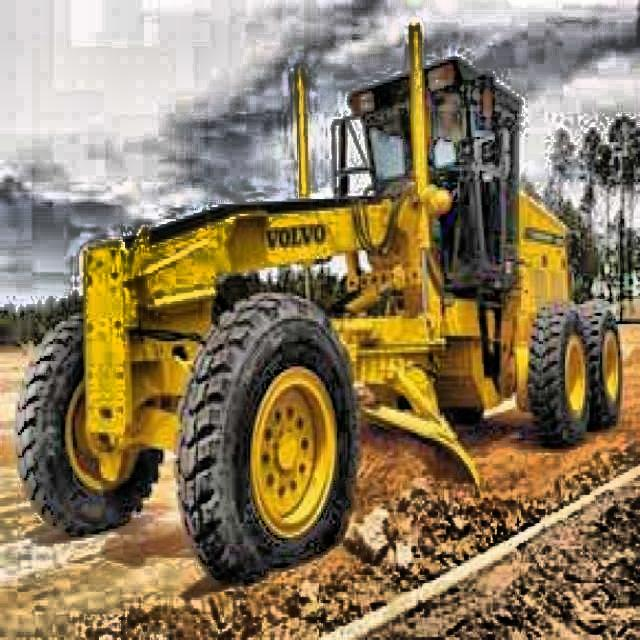bull_dozer/loader/grader: (10, 19, 624, 588)
person: (446, 127, 472, 165)
